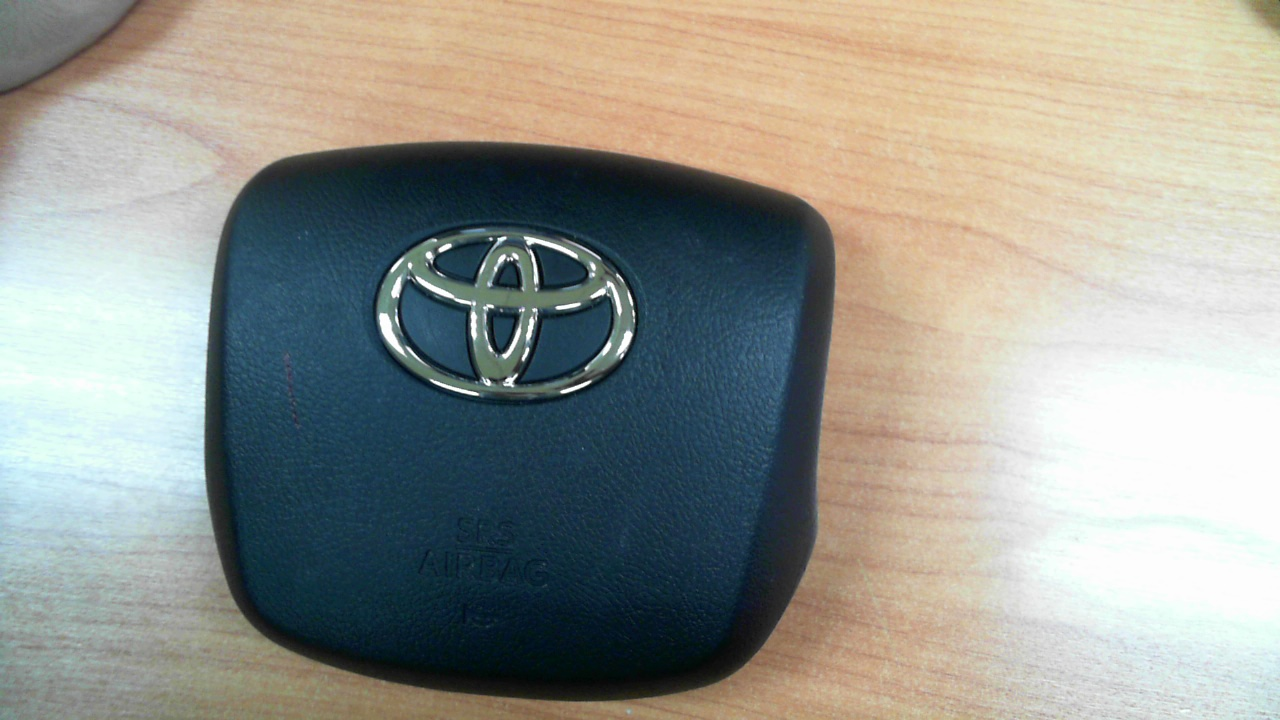Airbag: (203, 140, 837, 703)
Toyota: (375, 226, 637, 401)
